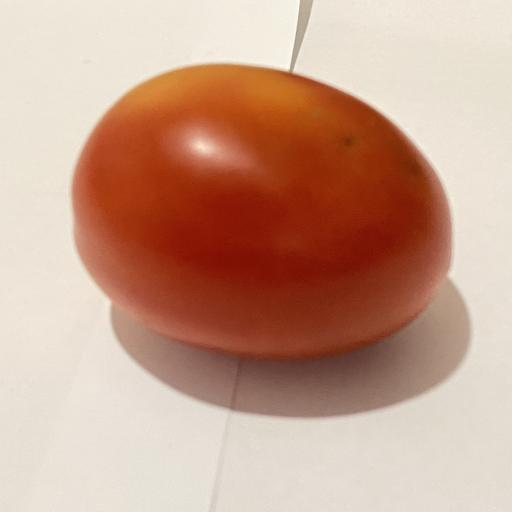ripe: (72, 64, 451, 359)
